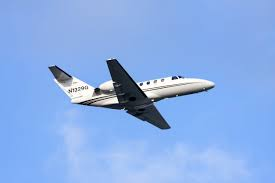plane: (47, 57, 215, 129)
